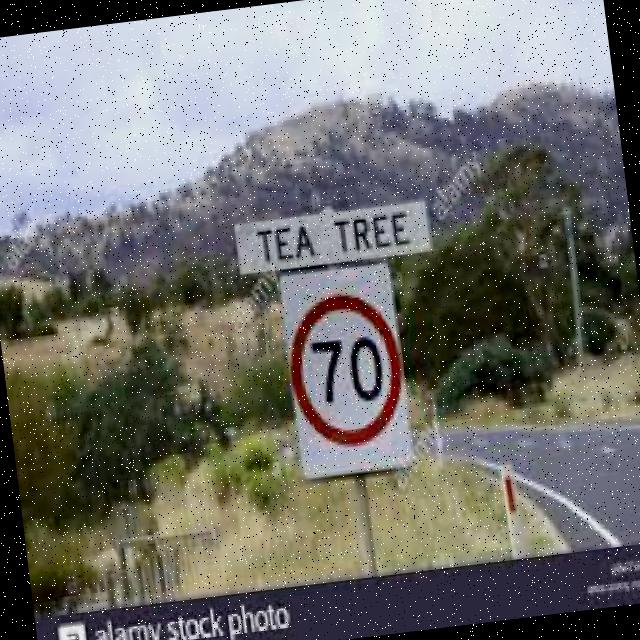Ograniczenie predkosci do 70: (278, 284, 417, 450)
